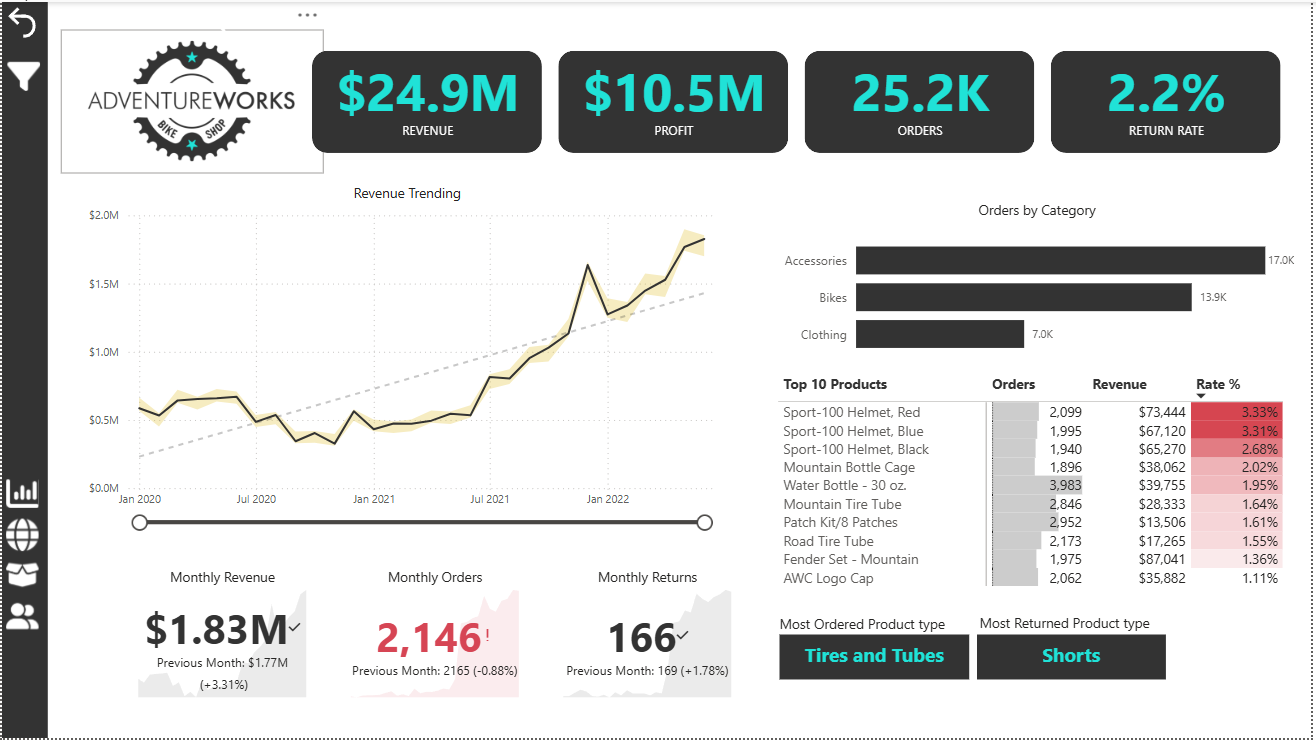

The dashboard page shown, as its layout file describes it:
{"tool":"powerbi","page":{"name":"Exec Dashboard","canvas":[1280,720],"ordinal":0},"visuals":[{"type":"card","fields":{"Values":["Measure Table.Total Revenue"]},"box":[288.1,17.8,256.2,150],"z":0,"group":"g2"},{"type":"image","title":"AW Logo","box":[57.5,26.9,256.8,140.6],"z":0},{"type":"shape","box":[303.1,47.8,225,100],"z":0,"group":"g1"},{"type":"actionButton","box":[0,460.8,45.5,39.8],"z":0,"group":"g3"},{"type":"card","fields":{"Values":["Measure Table.Total Profit"]},"box":[528.9,17.8,256.2,150],"z":1000,"group":"g2"},{"type":"group","id":"g1","title":"KPI Backgrounds","box":[303.1,47.8,947.5,100],"z":1000},{"type":"shape","box":[543.9,47.8,225,100],"z":1000,"group":"g1"},{"type":"actionButton","box":[0,540.4,45.5,39.8],"z":1000,"group":"g3"},{"type":"shape","title":"Left Nav Background","box":[0,0,45,720],"z":2000},{"type":"card","fields":{"Values":["Measure Table.Total Orders"]},"box":[769.8,17.8,256.2,150],"z":2000,"group":"g2"},{"type":"shape","box":[784.8,47.8,225,100],"z":2000,"group":"g1"},{"type":"actionButton","box":[0,580.3,45.5,39.8],"z":2000,"group":"g3"},{"type":"group","id":"g2","title":"KPI Values","box":[288.1,17.8,978.8,150],"z":3000},{"type":"card","fields":{"Values":["Measure Table.Return Rate"]},"box":[1010.6,17.8,256.2,150],"z":3000,"group":"g2"},{"type":"shape","box":[1025.6,47.8,225,100],"z":3000,"group":"g1"},{"type":"actionButton","box":[0,500.6,45.5,39.8],"z":3000,"group":"g3"},{"type":"actionButton","box":[205.4,7.3,25.7,26.9],"z":4000},{"type":"lineChart","title":"Revenue Trending","fields":{"Y":["Measure Table.Total Revenue"],"Category":["Calendar Lookup.Start of Month"]},"box":[78.9,177.7,633.8,342.5],"z":5000},{"type":"kpi","title":"Monthly Revenue","fields":{"Indicator":["Measure Table.Total Revenue"],"TrendLine":["Calendar Lookup.Date Hierarchy.Start of Month"],"Goal":["Measure Table.Previous Month Revenue"]},"box":[128.4,552.6,174.6,132.7],"z":7000},{"type":"kpi","title":"Monthly Orders","fields":{"Indicator":["Measure Table.Total Orders"],"TrendLine":["Calendar Lookup.Date Hierarchy.Start of Month"],"Goal":["Measure Table.Previous Month Orders"]},"box":[336.2,552.6,174.6,132.7],"z":8000},{"type":"kpi","title":"Monthly Returns","fields":{"TrendLine":["Calendar Lookup.Date Hierarchy.Start of Month"],"Indicator":["Measure Table.Total Returns"],"Goal":["Measure Table.Previous Month Returns"]},"box":[543.9,552.6,174.6,132.7],"z":9000},{"type":"clusteredBarChart","title":" Orders by Category","fields":{"Category":["Product Categories Lookup.CategoryName"],"Y":["Measure Table.Total Orders"]},"box":[755.7,194.4,513.6,165.1],"z":10000},{"type":"pivotTable","fields":{"Values":["Measure Table.Total Orders","Measure Table.Total Revenue","Measure Table.Return Rate"],"Rows":["Product Lookup.ProductName"]},"box":[754.5,359.5,512.4,225],"z":11000},{"type":"card","fields":{"Values":["Min(Product Subcategories Lookup.SubcategoryName)"]},"box":[760.6,618.8,185.9,44],"z":12000},{"type":"textbox","box":[755.7,594.3,214,35.5],"z":13000},{"type":"card","fields":{"Values":["Min(Product Subcategories Lookup.SubcategoryName)"]},"box":[953.8,618.8,184.6,44],"z":14000},{"type":"textbox","box":[951.4,593.1,214,35.5],"z":15000},{"type":"actionButton","box":[0,0,45.5,39.8],"z":16000},{"type":"group","id":"g3","title":"Nav bar","box":[0,460.8,45.5,159.3],"z":17000},{"type":"actionButton","box":[1.2,52.6,45.2,40.4],"z":18000}]}

Visuals, with their boxes on the page's 1280x720 design canvas (x1, y1, x2, y2). These are canvas units, not pixel positions in the 1316x746 screenshot, which may show the page scaled, cropped or inside an application window:
card - Measure Table.Total Revenue: <bbox>288, 18, 544, 168</bbox>
"AW Logo" image: <bbox>58, 27, 314, 168</bbox>
shape: <bbox>303, 48, 528, 148</bbox>
actionButton: <bbox>0, 461, 46, 501</bbox>
card - Measure Table.Total Profit: <bbox>529, 18, 785, 168</bbox>
"KPI Backgrounds" group: <bbox>303, 48, 1251, 148</bbox>
shape: <bbox>544, 48, 769, 148</bbox>
actionButton: <bbox>0, 540, 46, 580</bbox>
"Left Nav Background" shape: <bbox>0, 0, 45, 720</bbox>
card - Measure Table.Total Orders: <bbox>770, 18, 1026, 168</bbox>
shape: <bbox>785, 48, 1010, 148</bbox>
actionButton: <bbox>0, 580, 46, 620</bbox>
"KPI Values" group: <bbox>288, 18, 1267, 168</bbox>
card - Measure Table.Return Rate: <bbox>1011, 18, 1267, 168</bbox>
shape: <bbox>1026, 48, 1251, 148</bbox>
actionButton: <bbox>0, 501, 46, 540</bbox>
actionButton: <bbox>205, 7, 231, 34</bbox>
"Revenue Trending" lineChart: <bbox>79, 178, 713, 520</bbox>
"Monthly Revenue" kpi: <bbox>128, 553, 303, 685</bbox>
"Monthly Orders" kpi: <bbox>336, 553, 511, 685</bbox>
"Monthly Returns" kpi: <bbox>544, 553, 718, 685</bbox>
" Orders by Category" clusteredBarChart: <bbox>756, 194, 1269, 360</bbox>
pivotTable - Measure Table.Total Orders x Measure Table.Total Revenue: <bbox>754, 360, 1267, 584</bbox>
card - Min(Product Subcategories Lookup.SubcategoryName): <bbox>761, 619, 946, 663</bbox>
textbox: <bbox>756, 594, 970, 630</bbox>
card - Min(Product Subcategories Lookup.SubcategoryName): <bbox>954, 619, 1138, 663</bbox>
textbox: <bbox>951, 593, 1165, 629</bbox>
actionButton: <bbox>0, 0, 46, 40</bbox>
"Nav bar" group: <bbox>0, 461, 46, 620</bbox>
actionButton: <bbox>1, 53, 46, 93</bbox>
